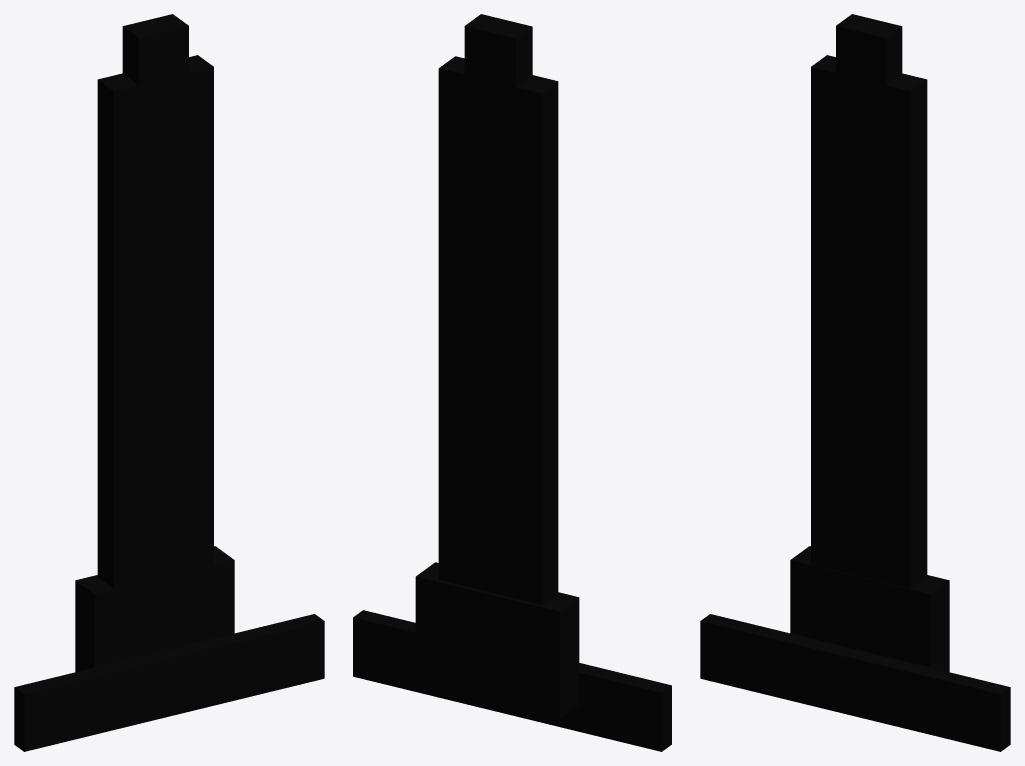
File: body.obj
The picture shows the model from 3 angles, left to right: view 1: azimuth 30°, elevation 25°; view 2: azimuth 150°, elevation 25°; view 3: azimuth 330°, elevation 25°; orthographic projection. The views are drawn at different scales.
Parts seen in each view (by area): view 1: blade, neck_band, knot, point; view 2: blade, knot, neck_band, point; view 3: blade, neck_band, knot, point.
Boxes of the visible parts, bbox=[...] form: blade: bbox=[97, 55, 213, 588]; neck_band: bbox=[14, 614, 324, 751]; knot: bbox=[75, 546, 234, 672]; point: bbox=[122, 14, 188, 84]; blade: bbox=[438, 56, 558, 604]; knot: bbox=[415, 562, 579, 719]; neck_band: bbox=[353, 610, 671, 751]; point: bbox=[464, 14, 532, 86]; blade: bbox=[811, 55, 927, 588]; neck_band: bbox=[700, 614, 1010, 751]; knot: bbox=[790, 546, 949, 672]; point: bbox=[836, 14, 902, 84].
Size of the model in its own units: 3 by 6.45 by 0.5.
